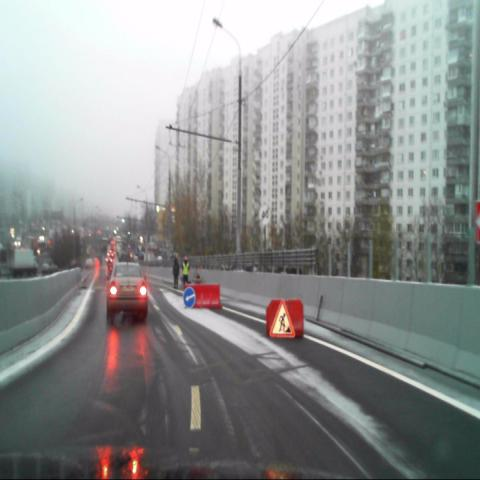1_25: (270, 297, 295, 338)
4_2_2: (184, 286, 195, 308)
